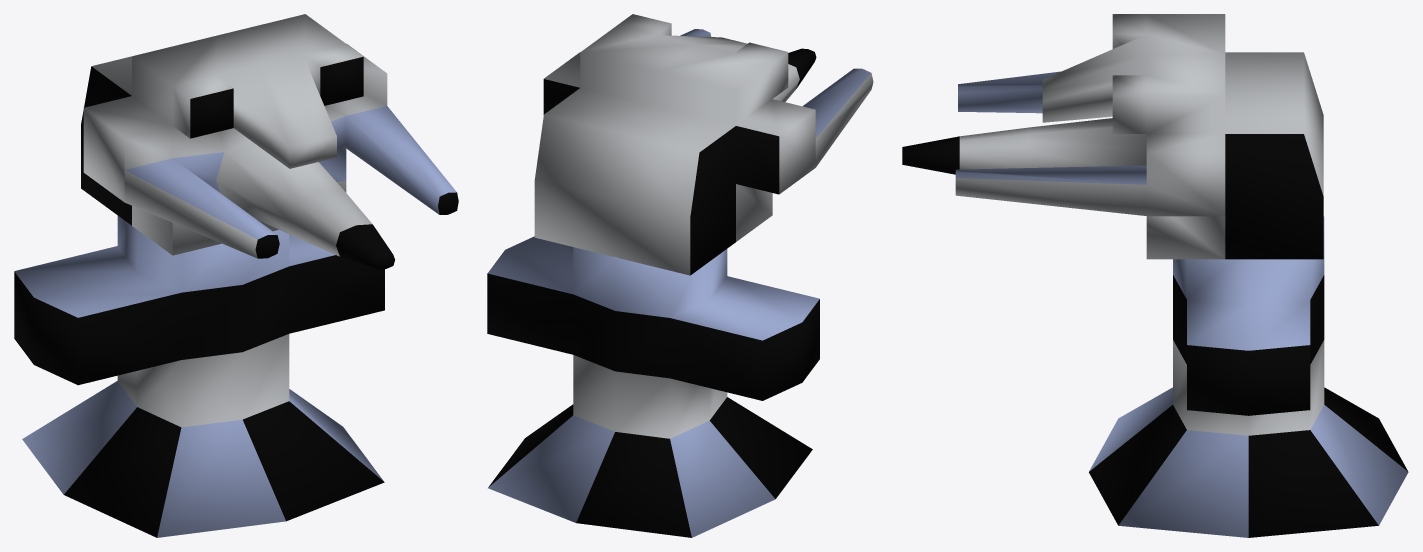
File: tower1.2.fbx
3 views of the same model, side by side, from view 1: azimuth 30°, elevation 25°; view 2: azimuth 150°, elevation 25°; view 3: azimuth 270°, elevation 25° (orthographic). The views are drawn at different scales.
Visible parts, largest first — view 1: Plane, Plane.001; view 2: Plane, Plane.001; view 3: Plane.001, Plane.
Part boxes in pixels (x1=…): Plane: x1=14, y1=215, x2=384, y2=537; Plane.001: x1=81, y1=14, x2=458, y2=269; Plane: x1=487, y1=236, x2=819, y2=537; Plane.001: x1=534, y1=14, x2=873, y2=275; Plane.001: x1=902, y1=14, x2=1323, y2=259; Plane: x1=1089, y1=216, x2=1408, y2=537.
Size of the model in its own units: 404 by 505 by 553.
